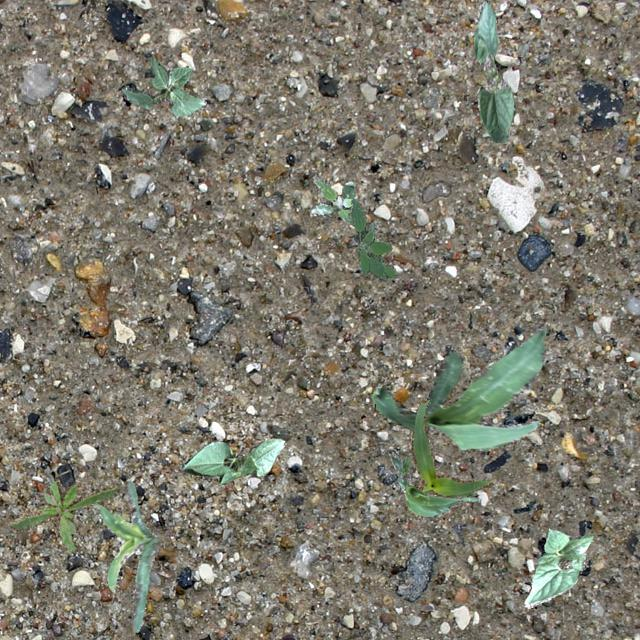crop: (372, 322, 546, 450), (403, 398, 492, 512), (92, 479, 158, 632), (472, 0, 514, 142), (388, 450, 477, 516), (524, 528, 592, 608), (120, 54, 206, 116), (180, 438, 284, 483)
weed: (7, 479, 118, 552), (348, 198, 397, 280), (310, 176, 354, 222)
